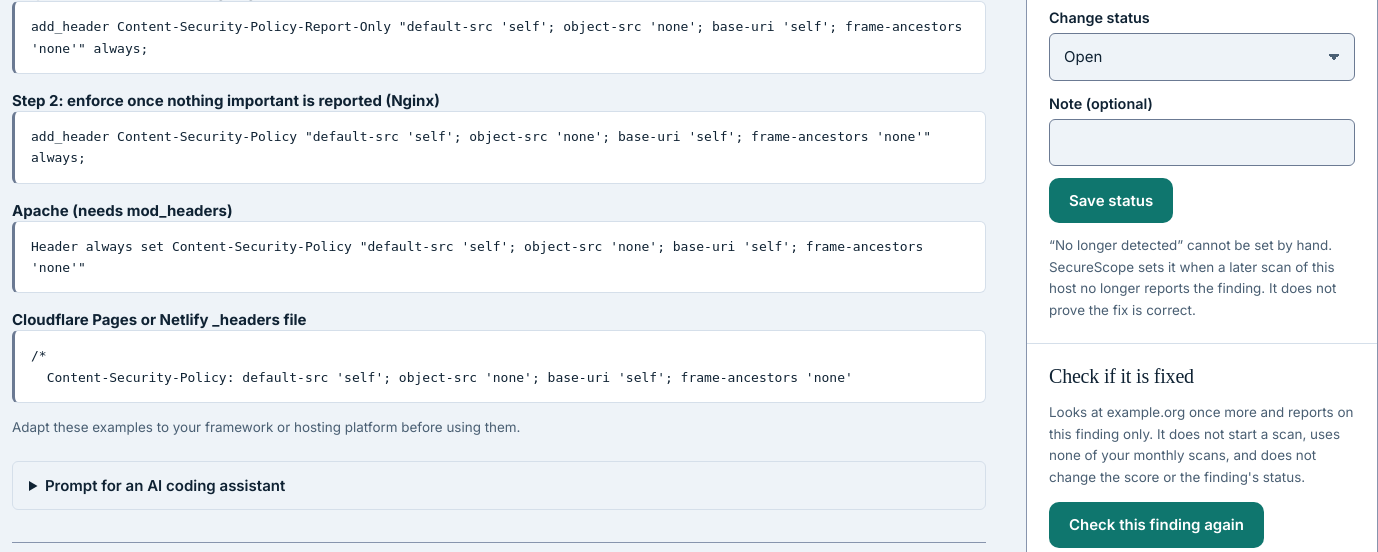
Test: Check if it is fixed › reports each outcome in plain words and posts to the finding's re-check route
The width and height of the screenshot is (1378, 552).
(page scrolled)
What coordinates should you click on to do the following:
click the button "Check this finding again"
I would click on:
 (1156, 525)
Its box is 1049,502 -> 1264,548.
(page scrolled)
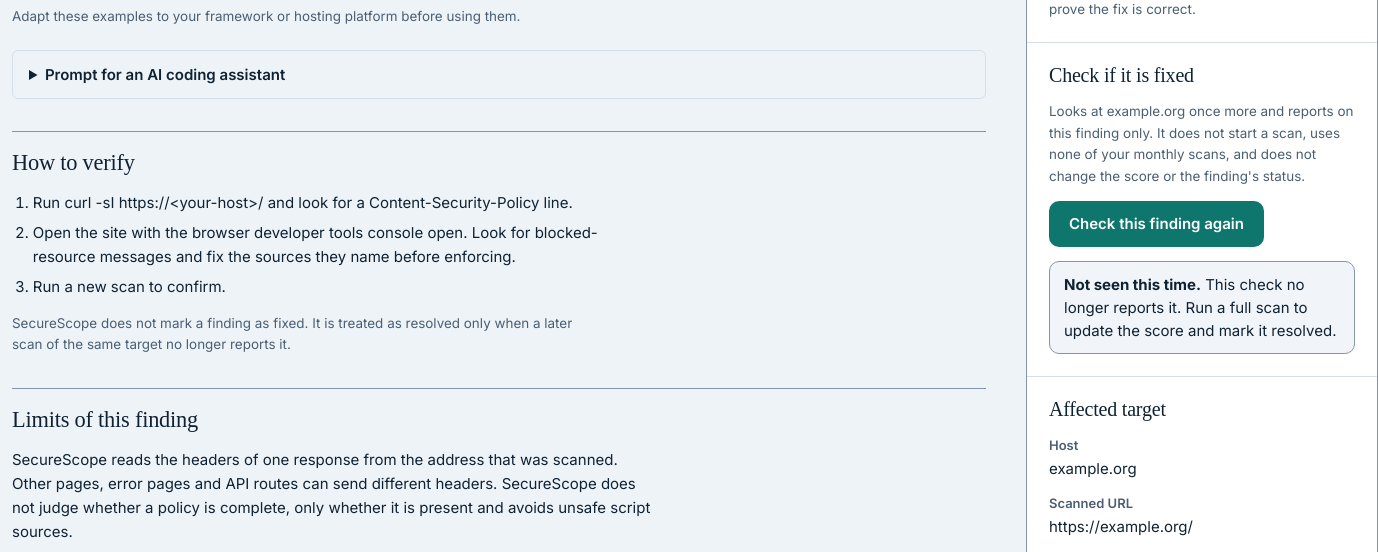
expect the message with test id "recheck-result" shows "Not seen this time.": met, box 1064,274 -> 1201,293
expect the message with test id "recheck-result" shows "Run a full scan": met, box 1064,274 -> 1336,340
